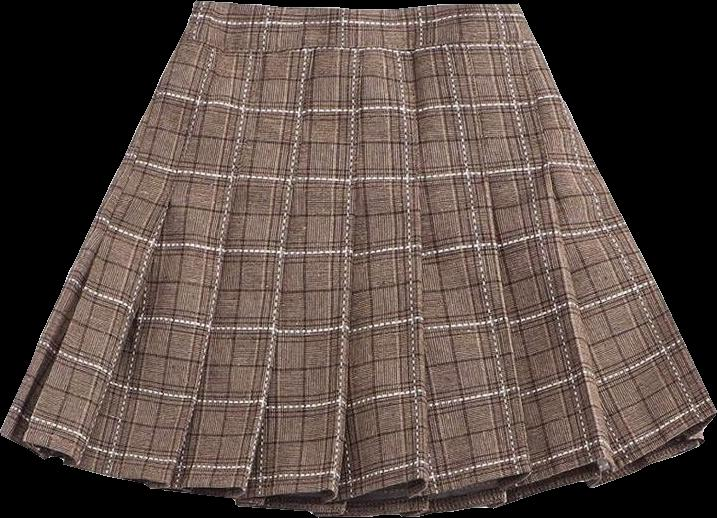Hemline: (0, 414, 714, 515)
Waistline: (175, 37, 538, 55), (192, 0, 520, 14)
